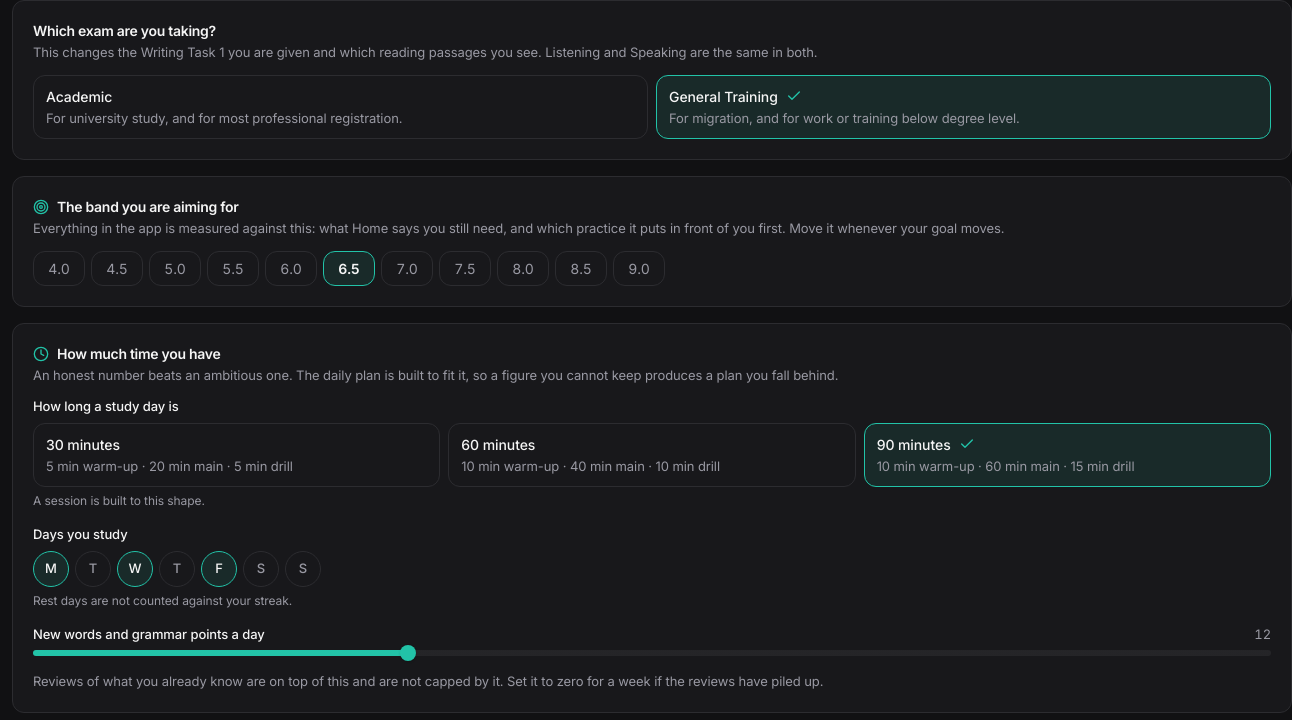
Scenario: Settings > You › refuses to save a week the planner would silently overrule
Step 1. Click the button named "Monday" → click(51, 568), box [33,550,69,586]
(page scrolled)
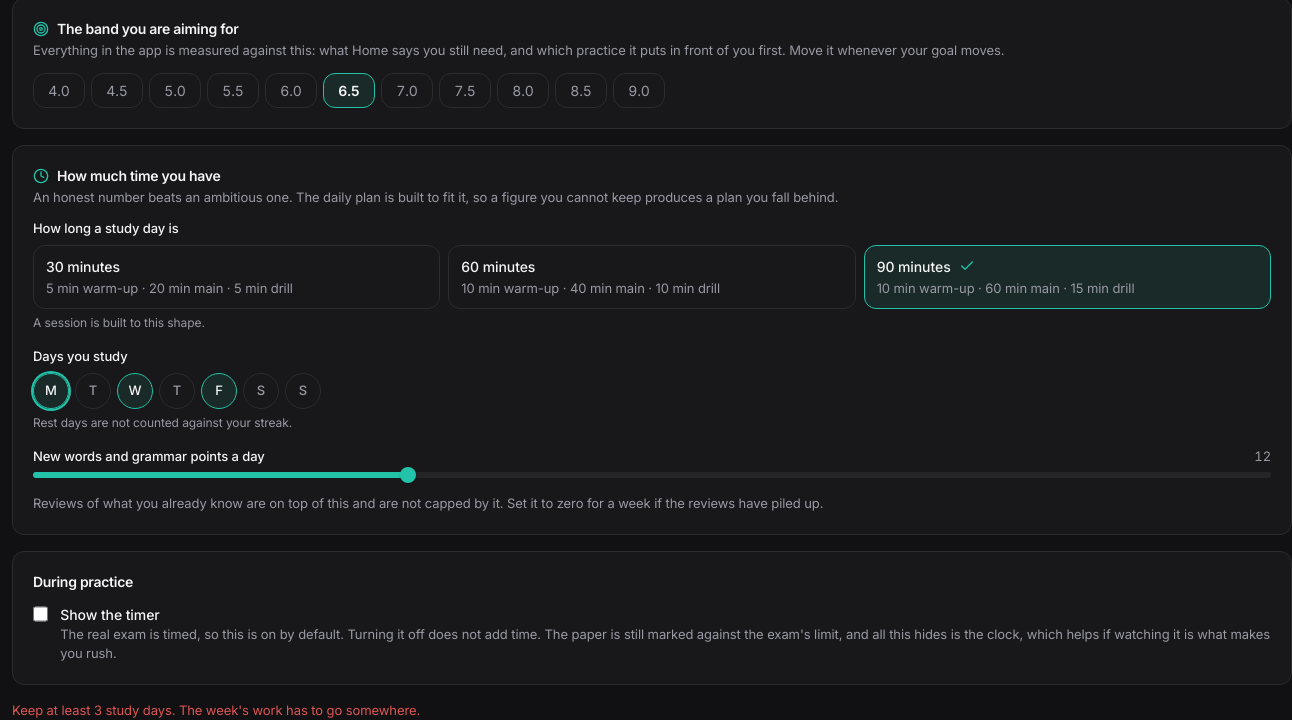
Now the text "Keep at least 3 study days" is shown, box [12,702,420,718]
